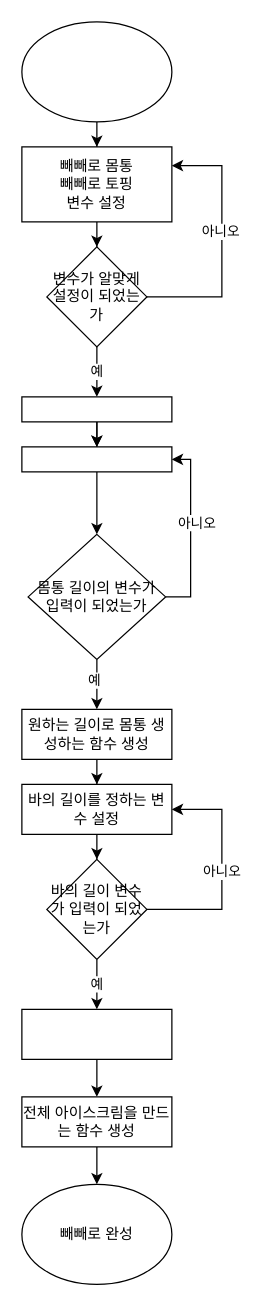
Image size: 263x1306. Some labels were removed from this diagram. The box of each missing label's shape, as (x1, y1, x2, y2) in pixels:
몸통 만드는 함수 생성: (21, 396, 172, 422)
몸통의 길이 변수 설정: (21, 446, 172, 472)
바를 원하는 길이로 만드는 함수 생성: (21, 1008, 172, 1059)
빼빼로만들기: (21, 21, 172, 122)
